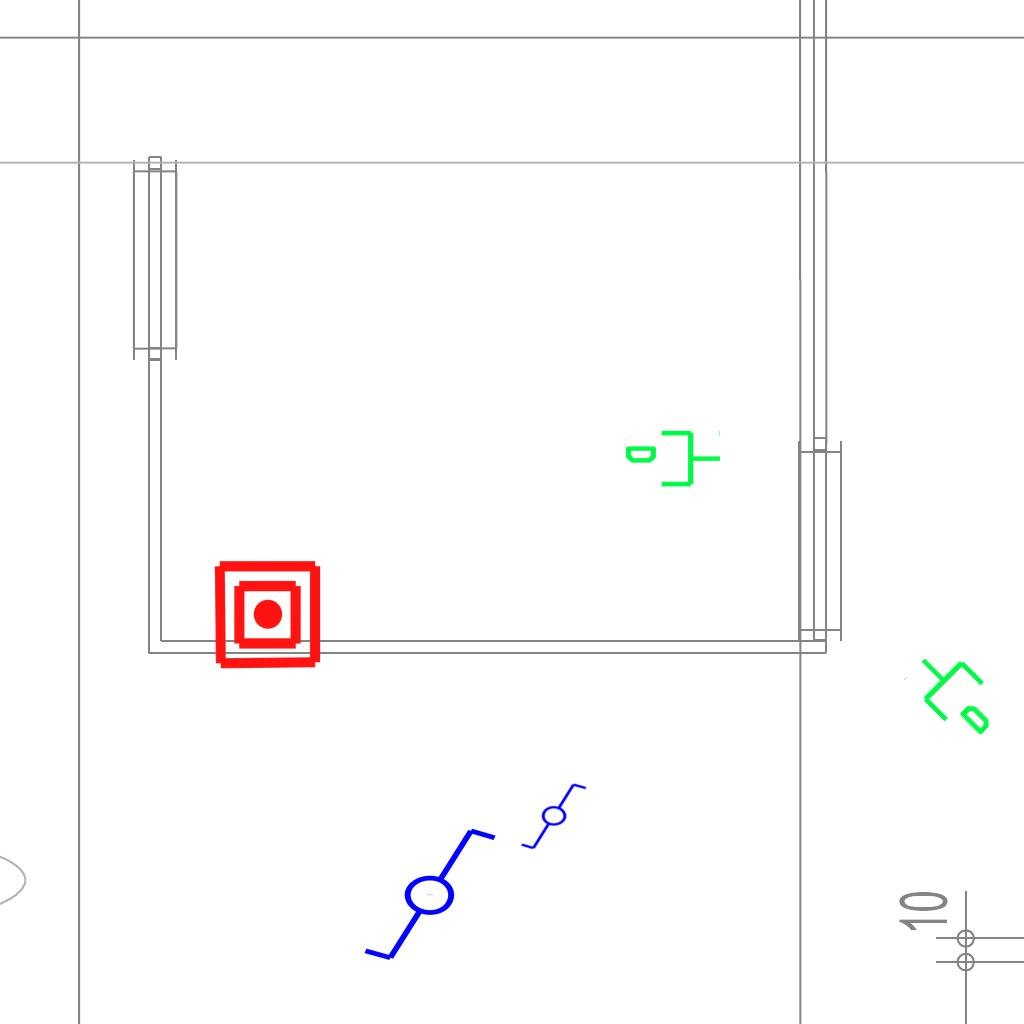Datenanschluss_einfach: (897, 632, 1018, 752), (623, 426, 723, 495)
NAM-Nichtautomatischer_Melder: (211, 558, 324, 671)
Wechselschalter: (343, 821, 500, 965), (519, 781, 597, 853)
